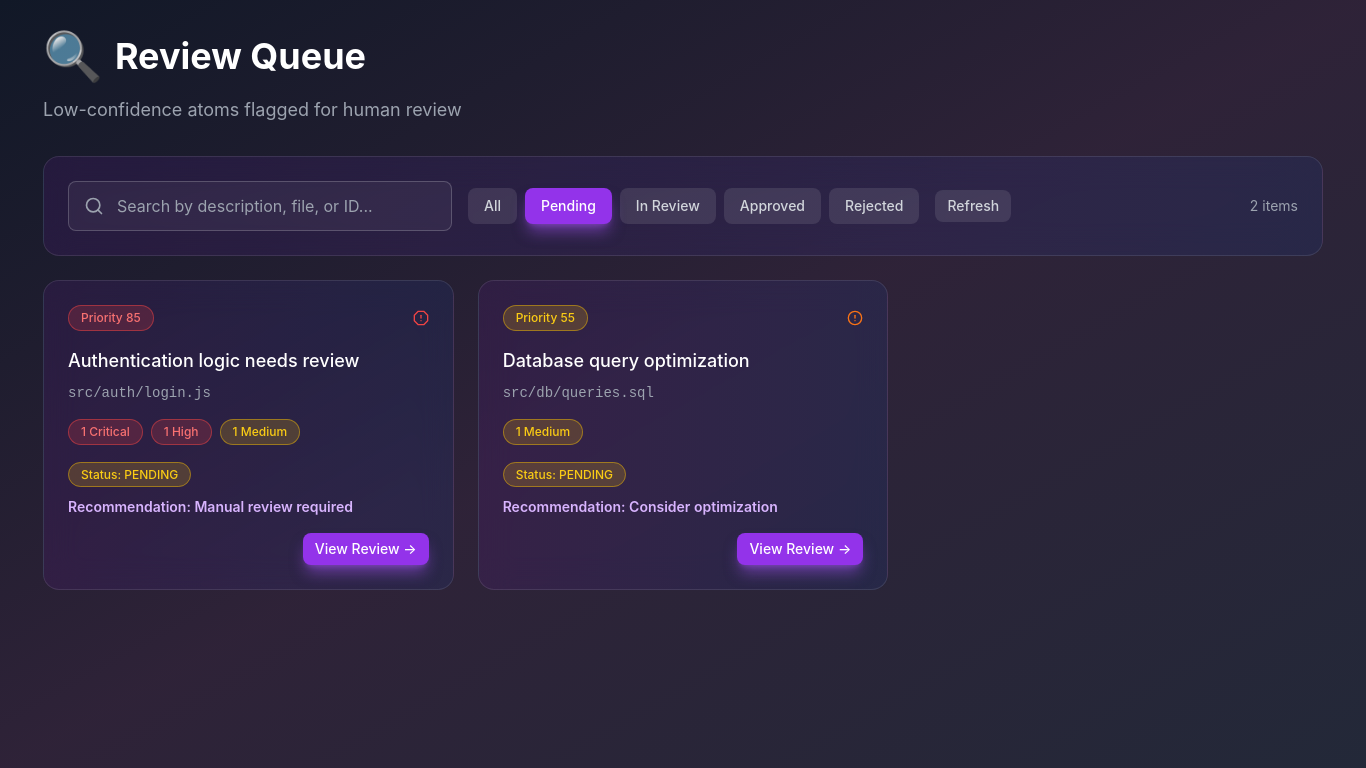
it: ReviewQueue Integration Tests › should filter reviews by search query
Expected: the heading "Authentication logic needs review" is shown, x1=68 y1=350 x2=359 y2=371
Type "database" into the field with placeholder "Search by description, file, or ID..." at point(260, 206), box x1=68 y1=181 x2=452 y2=231
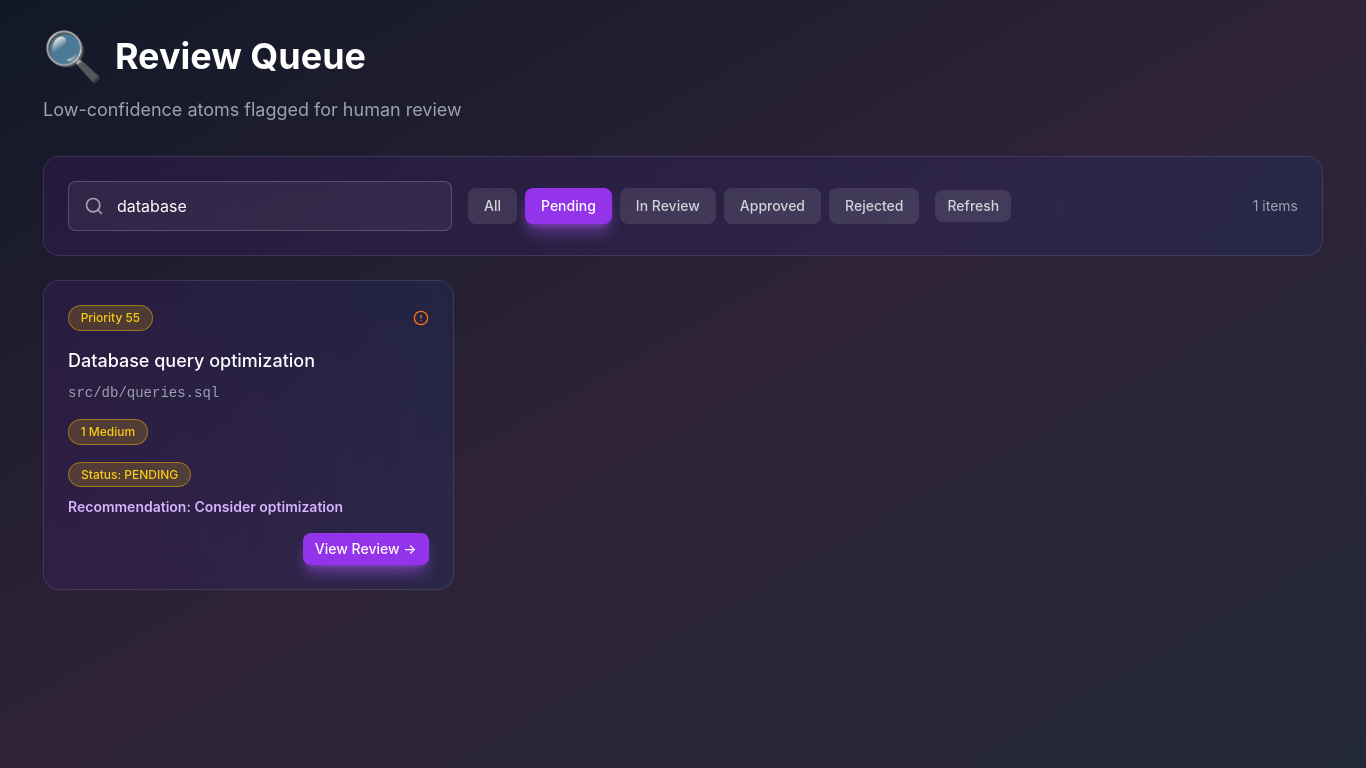
Expected: the heading "Database query optimization" is shown, x1=68 y1=350 x2=315 y2=371
Now the heading "Authentication logic needs review" is gone
